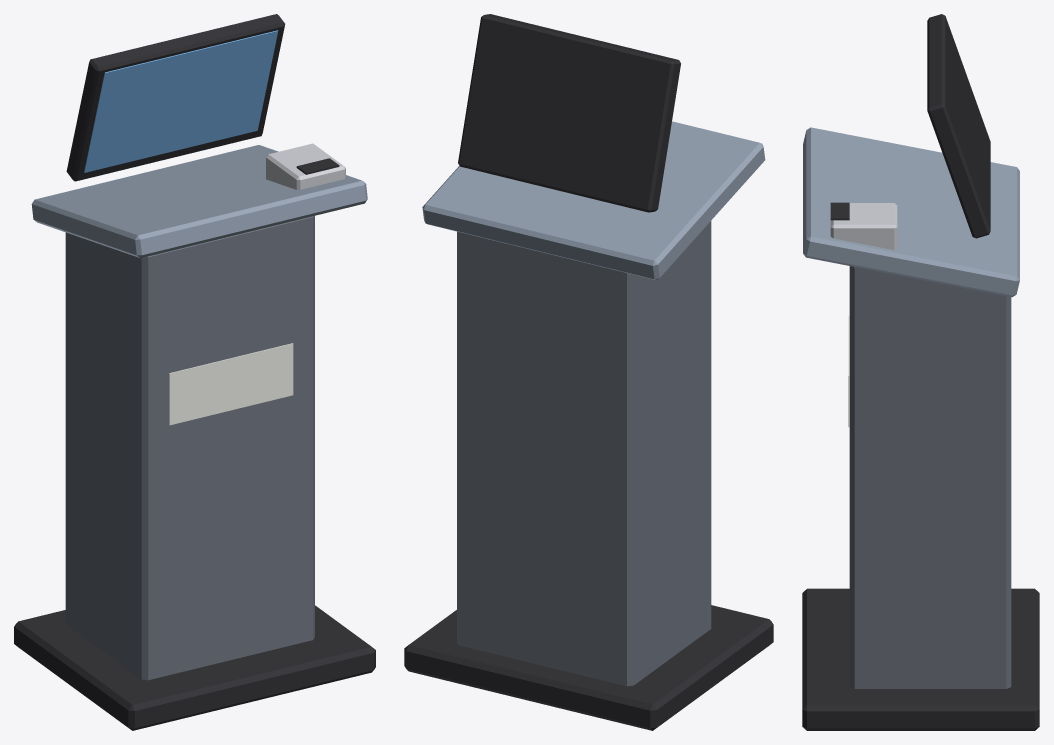
Rendered from kiosk.fbx.
3 views of the same model, side by side, from view 1: azimuth 30°, elevation 25°; view 2: azimuth 150°, elevation 25°; view 3: azimuth 270°, elevation 25° (orthographic). The views are drawn at different scales.
Visible parts, largest first — view 1: Kiosk, Screen; view 2: Kiosk; view 3: Kiosk.
Part boxes in pixels (x1,y1,x2,y2): Kiosk: (14,14,375,730); Screen: (84,30,278,172); Kiosk: (404,14,773,730); Kiosk: (802,14,1039,730).
Size of the model in its own units: 0.6 by 1.43 by 0.5.
